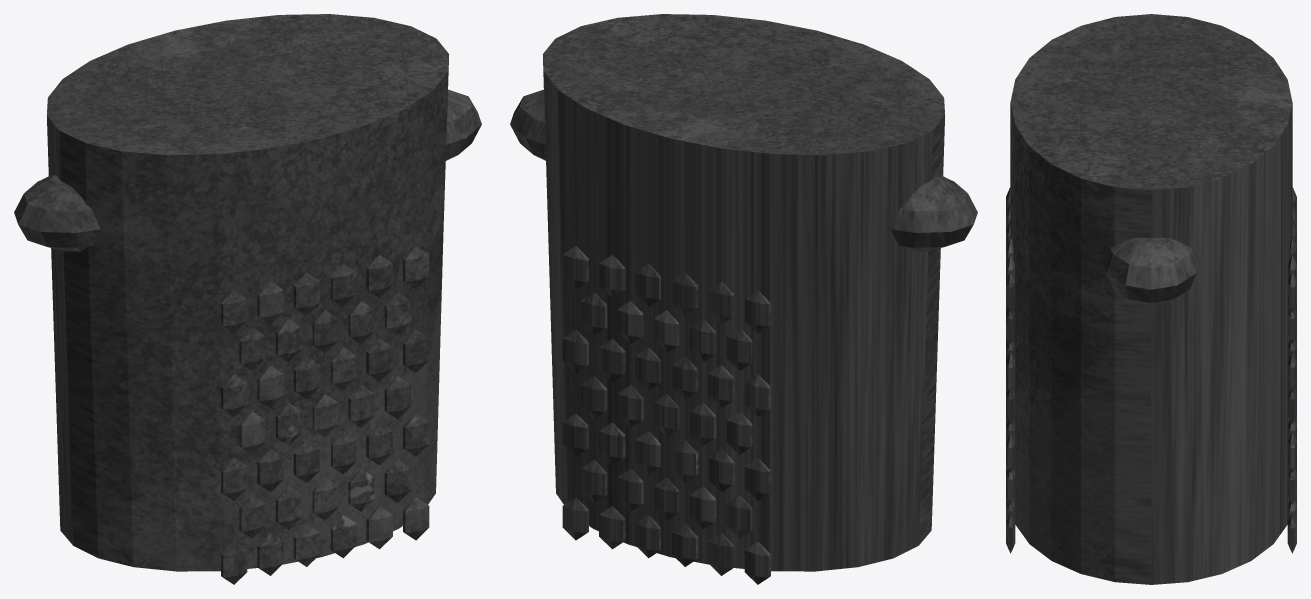
File: scale_armor.glb
The picture shows the model from 3 angles, left to right: view 1: azimuth 30°, elevation 25°; view 2: azimuth 150°, elevation 25°; view 3: azimuth 270°, elevation 25°; orthographic projection. The views are drawn at different scales.
Visible parts, largest first — view 1: scale_armor; view 2: scale_armor; view 3: scale_armor.
Boxes of the visible parts, x1,y1,x2,y2 form: scale_armor: [14, 14, 481, 584]; scale_armor: [510, 14, 977, 584]; scale_armor: [1006, 14, 1296, 584].
Bounding box in the file's own units: 0.632 × 0.5586 × 0.3614.
Materials: 1 (1 with a texture image).
